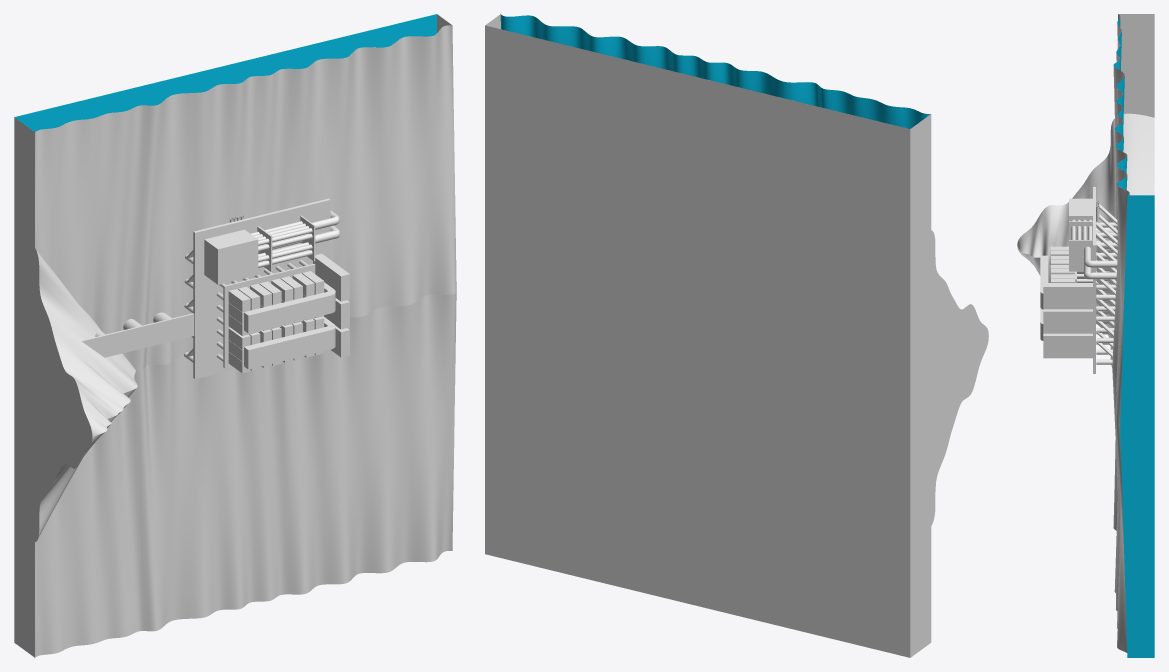
The model's file is Data_center_CAD.glb.
3 views of the same model, side by side, from view 1: azimuth 30°, elevation 25°; view 2: azimuth 150°, elevation 25°; view 3: azimuth 270°, elevation 25° (orthographic). The views are drawn at different scales.
Parts seen in each view (by area): view 1: Data center CAD; view 2: Data center CAD; view 3: Data center CAD.
Part boxes in pixels (x1,y1,x2,y2): Data center CAD: (14,14,456,657); Data center CAD: (485,14,988,657); Data center CAD: (1017,14,1154,657).
Size of the model in its own units: 26.93 by 32 by 8.62.
